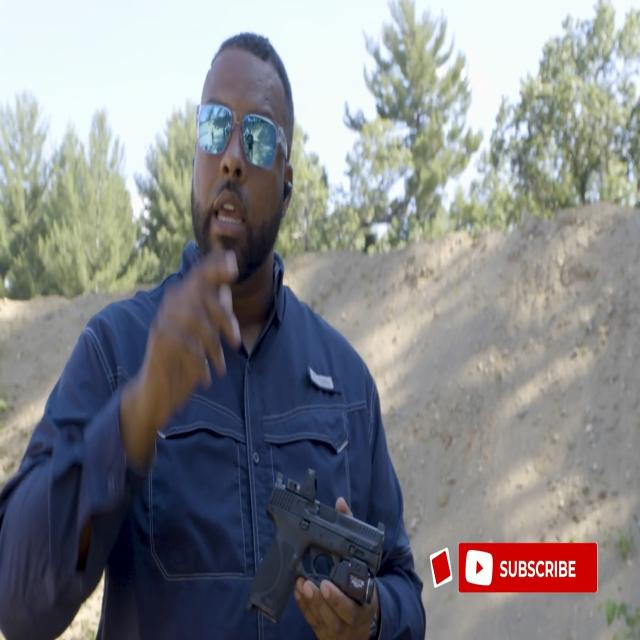Gun_Holder: (254, 465, 375, 631)
Person: (2, 26, 427, 640)
